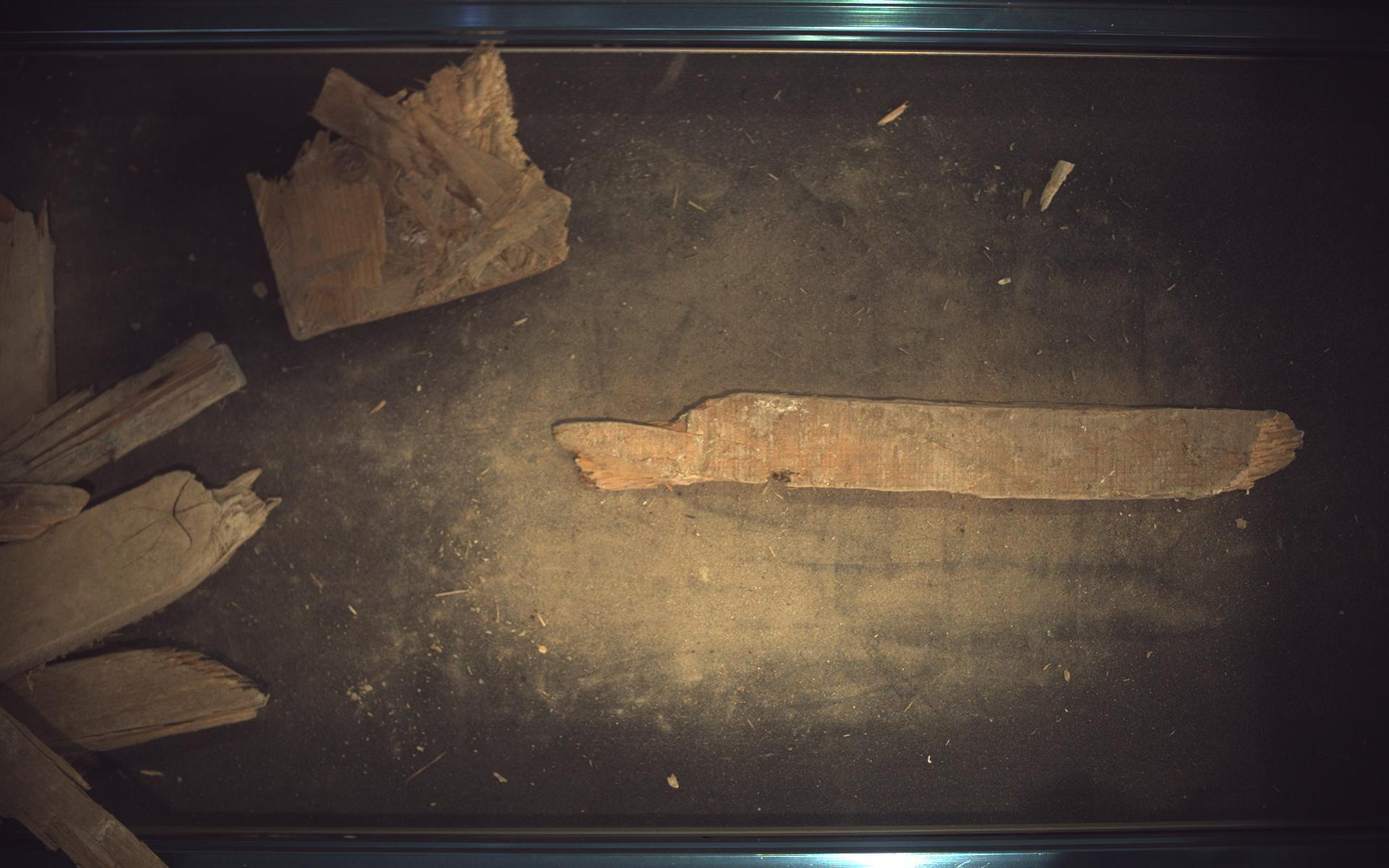wood: (247, 46, 572, 340), (553, 393, 1306, 501), (1, 470, 279, 682), (1, 332, 245, 484), (9, 649, 267, 752), (1, 710, 165, 868), (1, 194, 54, 441), (1, 485, 88, 542)
